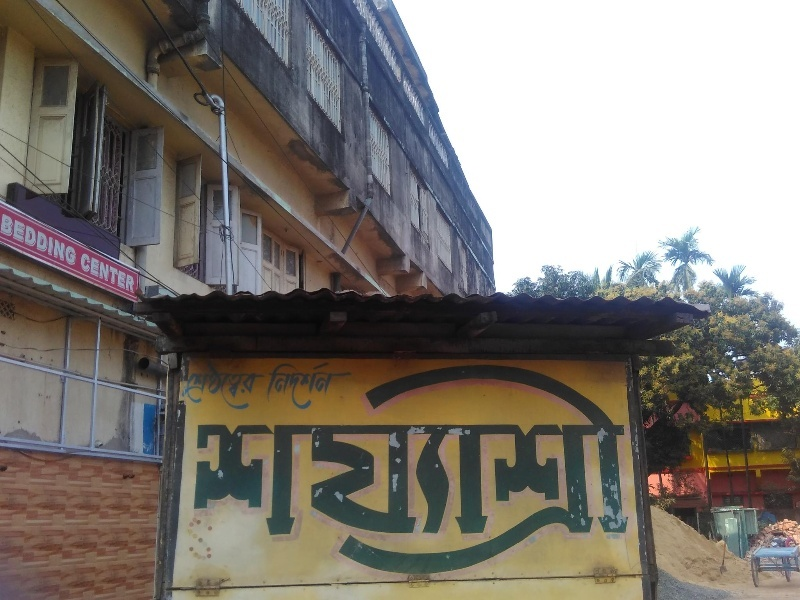text: (209, 360, 224, 578), (225, 360, 240, 578), (241, 360, 256, 578), (257, 360, 272, 578), (273, 360, 288, 578), (289, 360, 304, 578), (305, 360, 320, 578), (321, 360, 336, 578), (337, 360, 352, 578), (353, 360, 368, 578), (369, 360, 384, 578), (385, 360, 400, 578), (401, 360, 416, 578), (417, 360, 432, 578), (433, 360, 448, 578), (449, 360, 464, 578), (465, 360, 480, 578), (481, 360, 496, 578), (497, 360, 512, 578), (513, 360, 528, 578), (529, 360, 544, 578), (545, 360, 560, 578), (561, 360, 576, 578), (577, 360, 592, 578), (593, 360, 608, 578), (609, 360, 624, 578), (625, 360, 640, 578), (641, 360, 645, 578), (289, 359, 304, 417), (305, 359, 320, 417), (321, 359, 336, 417), (337, 359, 352, 417), (17, 213, 32, 268), (33, 213, 48, 268), (49, 213, 64, 268), (275, 359, 288, 417), (193, 360, 208, 410), (209, 360, 224, 410), (225, 360, 240, 410), (241, 360, 256, 410), (3, 213, 16, 268), (65, 213, 77, 268), (97, 253, 112, 295), (113, 253, 128, 295), (83, 253, 96, 295), (182, 360, 192, 410), (257, 360, 263, 410), (129, 253, 136, 295), (353, 359, 356, 417)
